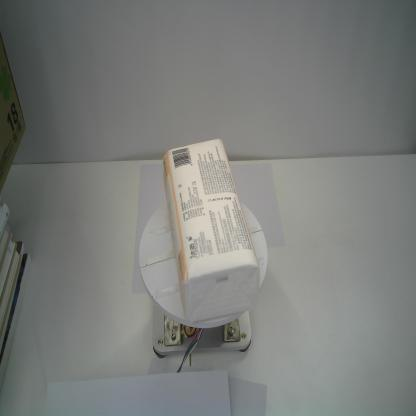Tissue: (162, 138, 260, 324)
